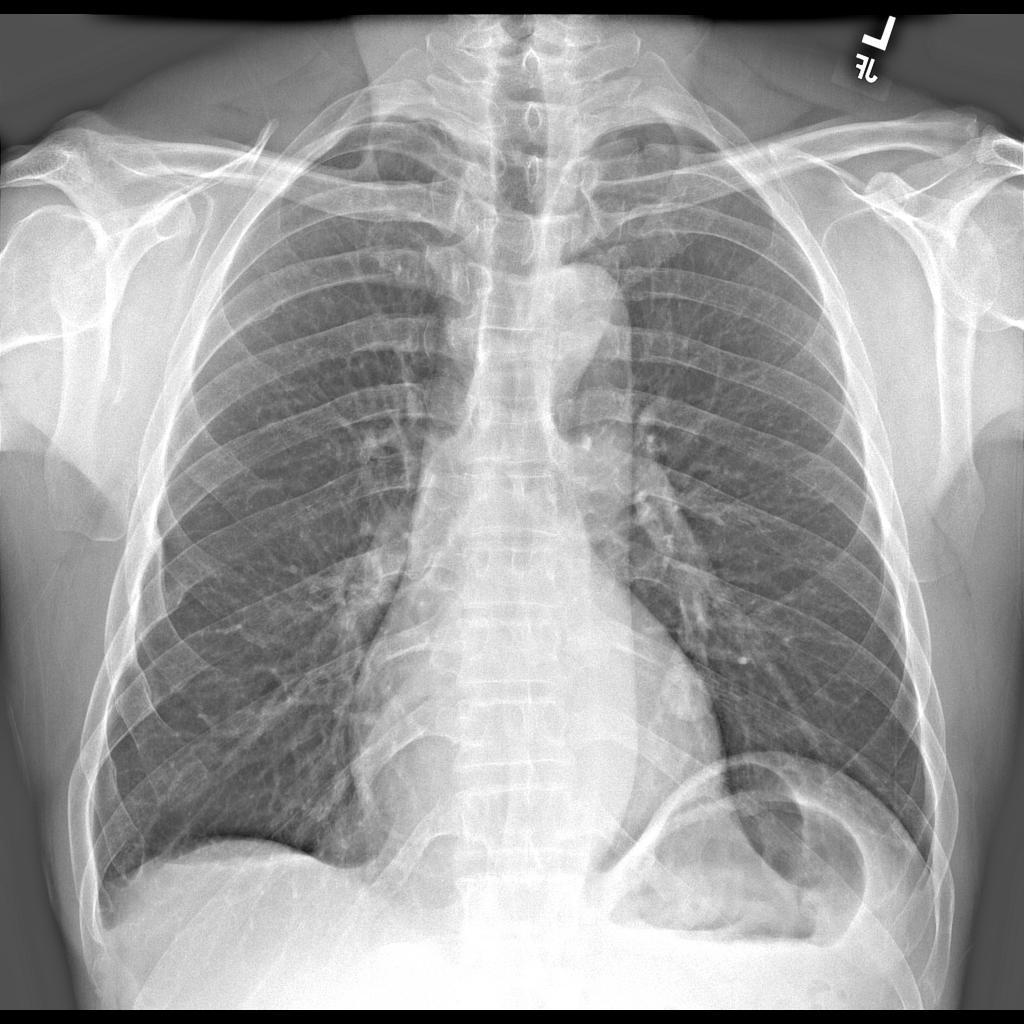Nodule: (653, 649, 722, 731)
